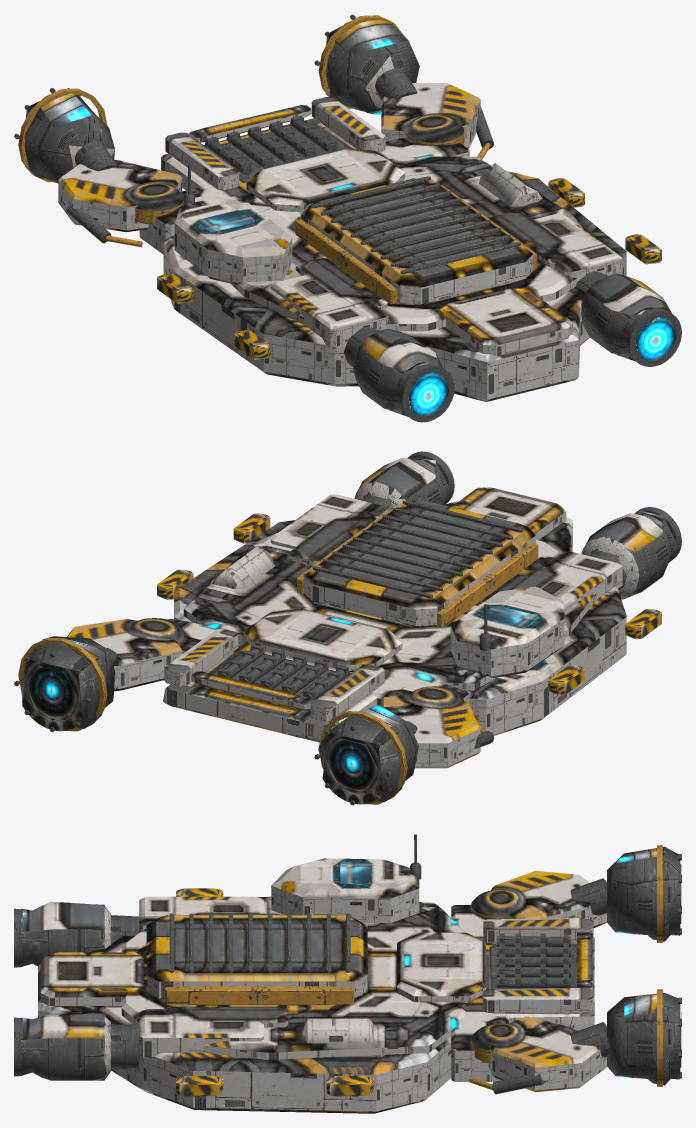
Rendered from mining-barge-lod2.glb.
3 renders of one model, top to bottom at view 1: azimuth 30°, elevation 25°; view 2: azimuth 150°, elevation 25°; view 3: azimuth 270°, elevation 25°, orthographic.
Parts seen in each view (by area): view 1: Static / Reference titanium and industrial fittings, Static / Ventral reference plating; view 2: Static / Reference titanium and industrial fittings, Static / Ventral reference plating; view 3: Static / Reference titanium and industrial fittings, Static / Ventral reference plating.
Part boxes in pixels (x1,y1,x2,y2): Static / Reference titanium and industrial fittings: [14, 14, 681, 422]; Static / Ventral reference plating: [25, 94, 635, 416]; Static / Reference titanium and industrial fittings: [14, 451, 681, 805]; Static / Ventral reference plating: [76, 560, 671, 802]; Static / Reference titanium and industrial fittings: [14, 834, 681, 1111]; Static / Ventral reference plating: [21, 921, 680, 1113].
Bounding box in the file's own units: 13.19 × 3.97 × 18.74.
2 materials, 2 textured.
